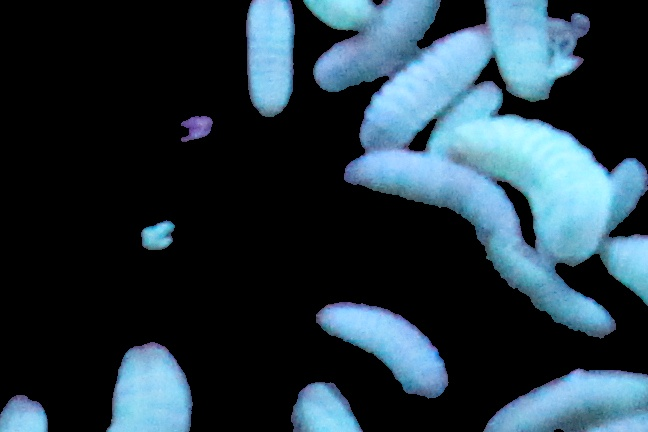larvae: (449, 116, 612, 266), (345, 145, 527, 255), (362, 27, 486, 145), (319, 300, 447, 397), (317, 1, 442, 92), (477, 366, 648, 431), (491, 251, 617, 335), (103, 341, 197, 432), (484, 1, 554, 100), (243, 1, 294, 118), (427, 80, 500, 159), (287, 374, 363, 432), (301, 1, 375, 28)
